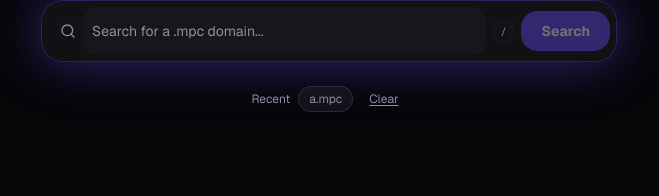
Test: DomainSearch › Domain availability › shows "Available" badge for new domain
Type "newdomain" into the field with placeholder "Search for a .mpc domain..." at (285, 31), box [84,7,486,55]
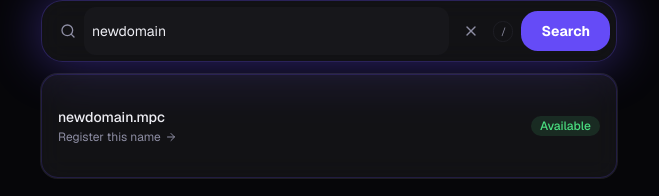
Now the text "Available" is shown, box [531,116,600,136]
